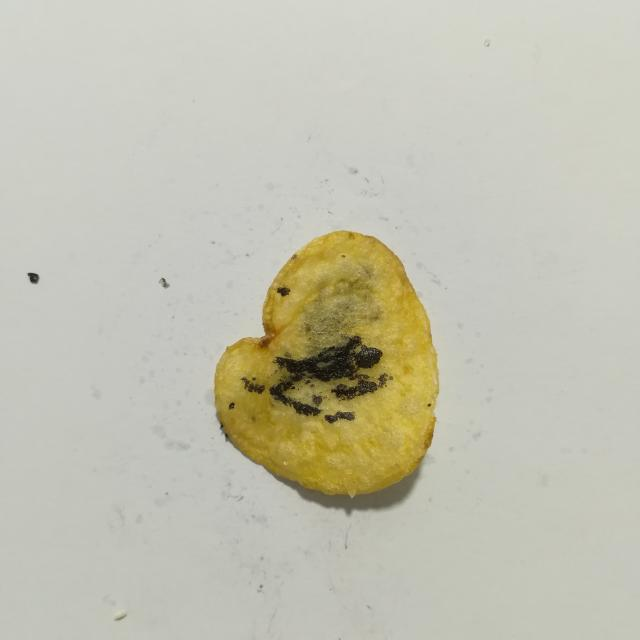chip: (214, 231, 439, 496)
damaged: (274, 336, 382, 387), (269, 380, 320, 415), (331, 374, 387, 400), (241, 377, 265, 394), (324, 411, 355, 423), (27, 272, 40, 284), (312, 394, 322, 406), (277, 287, 290, 296), (229, 402, 235, 409), (428, 403, 431, 407)
semi-damaged: (298, 262, 382, 357)
